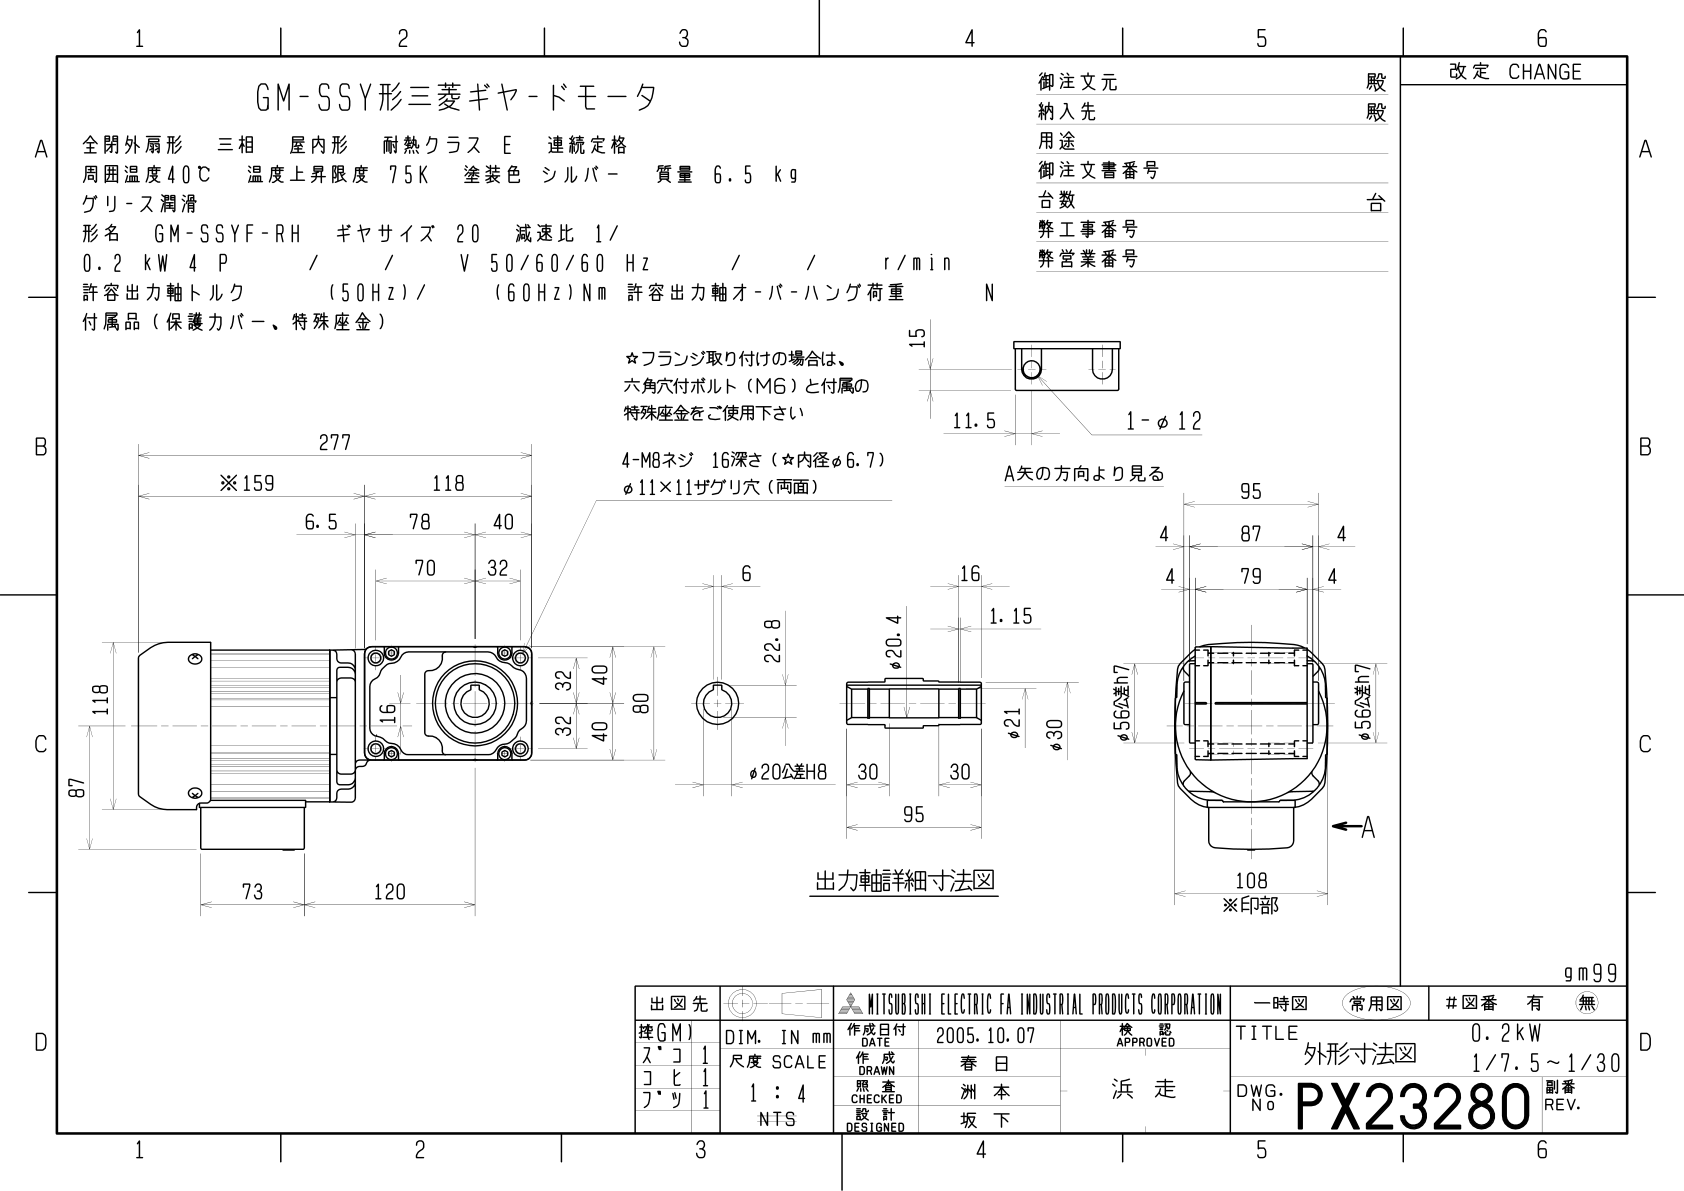GM_SSY_屋内_三相: (64, 329, 1389, 971)
